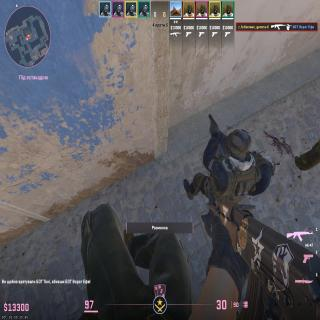CT-Body: (198, 130, 253, 230)
CT-Head: (223, 129, 253, 161)
